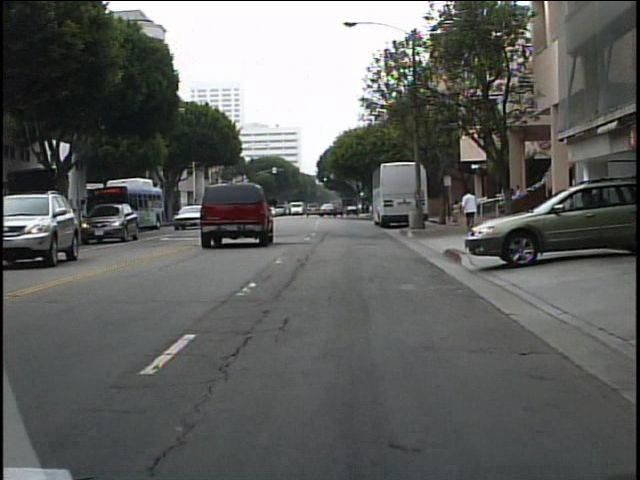person: (458, 186, 480, 238), (451, 198, 462, 226)
